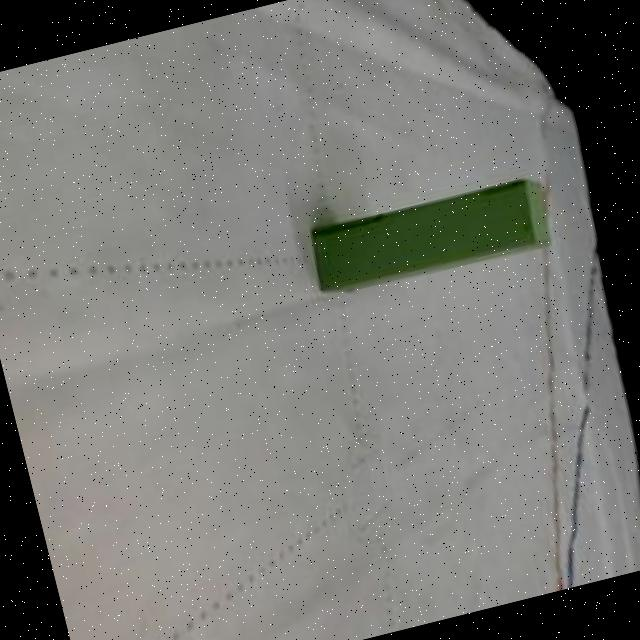greenbox: (302, 165, 565, 308)
